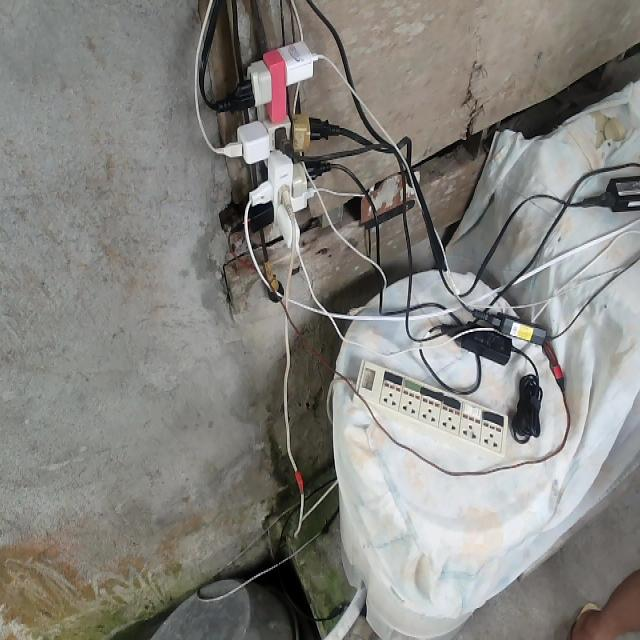-: (209, 37, 341, 251)
